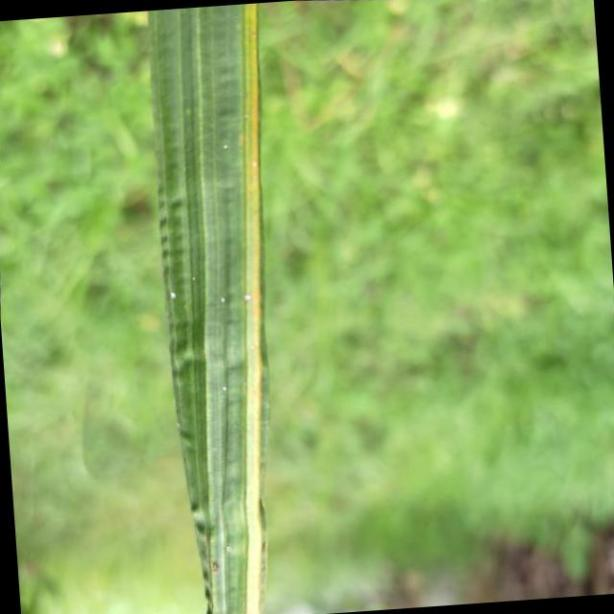Boron: (154, 0, 286, 614)
